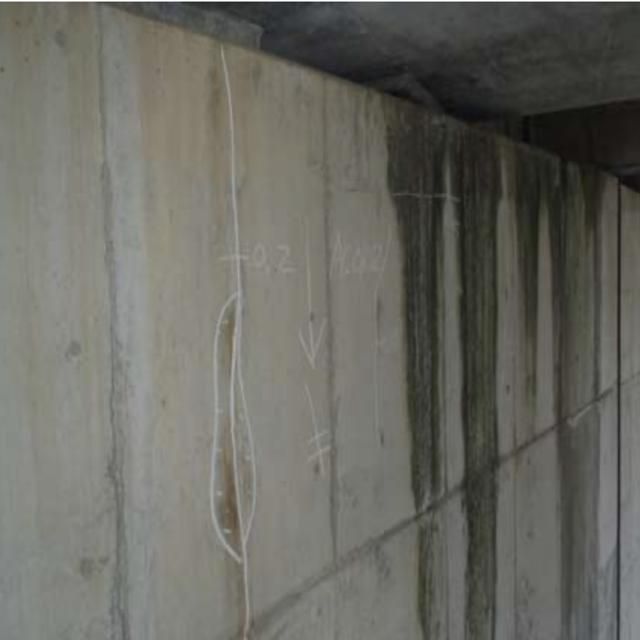leakage: (358, 91, 603, 638)
spalling: (204, 296, 270, 571)
